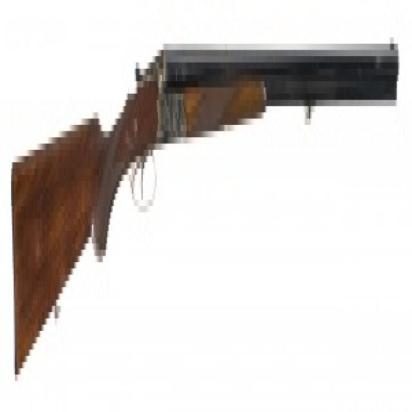Gun: (6, 0, 412, 412)
